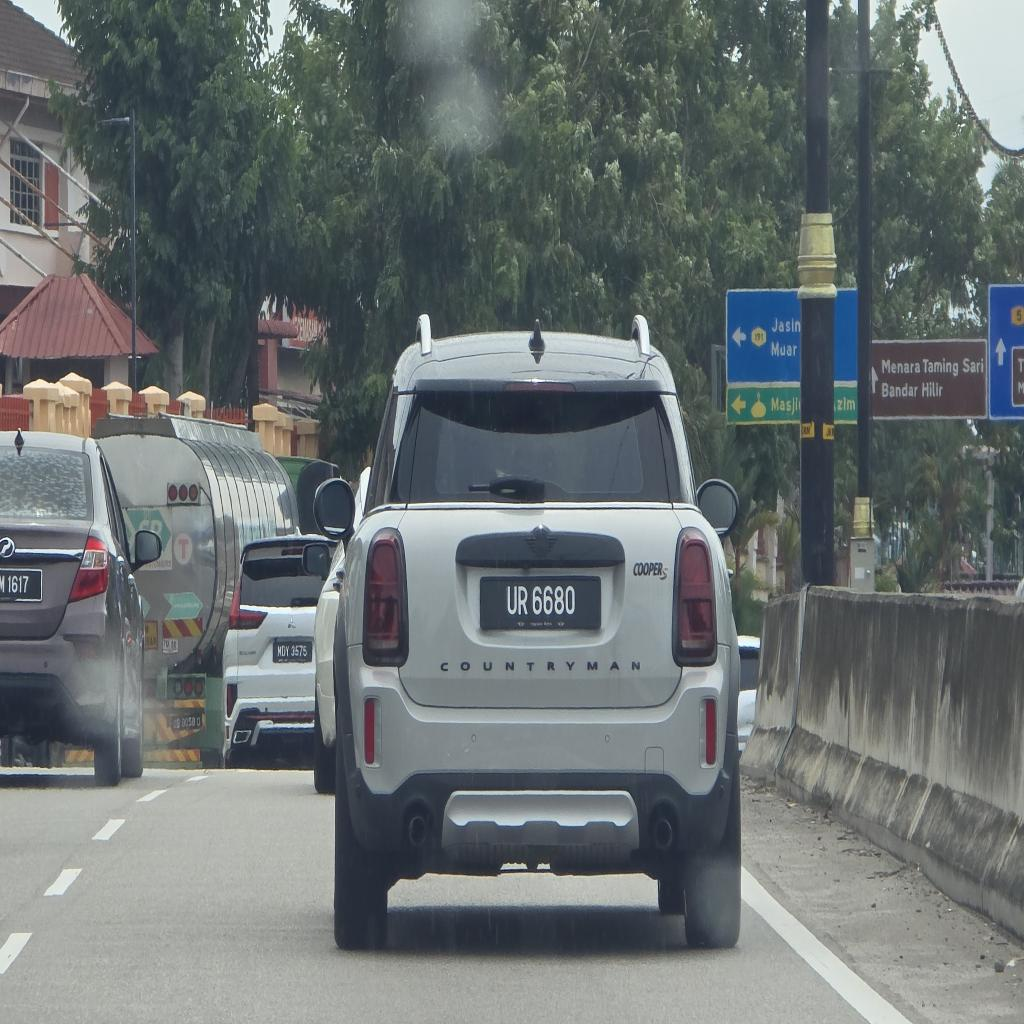car: (315, 317, 740, 948), (223, 536, 332, 760)
car plate: (480, 577, 601, 629), (273, 638, 312, 662)
